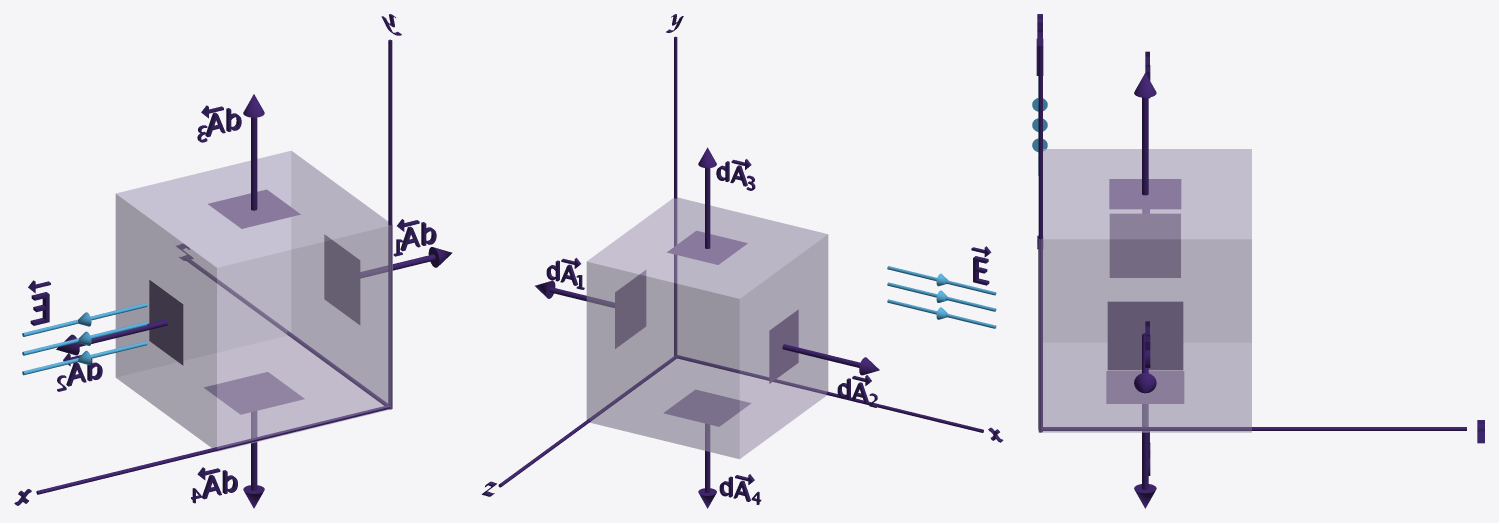
The model's file is fisica.glb.
3 views of the same model, side by side, from view 1: azimuth 30°, elevation 25°; view 2: azimuth 150°, elevation 25°; view 3: azimuth 270°, elevation 25° (orthographic). The views are drawn at different scales.
Visible parts, largest first — view 1: pCube1, pCylinder8, pCylinder2, pCylinder3, pCylinder4, pCone3, pCone5, pCone2, pCone4, typeMesh2, typeMesh4, typeMesh5; view 2: pCube1, pCylinder8, pCylinder2, pCylinder3, pCylinder4, pCone4, pCone3, pCone2, pCone5; view 3: pCube1, pCylinder2, pCylinder4, pCone3, pCone5, pCone2.
Part boxes in pixels (x1=…): pCube1: x1=115, y1=151, x2=392, y2=451; pCylinder8: x1=22, y1=303, x2=147, y2=375; pCylinder2: x1=388, y1=39, x2=392, y2=409; pCylinder3: x1=36, y1=405, x2=390, y2=494; pCylinder4: x1=185, y1=257, x2=388, y2=405; pCone3: x1=243, y1=94, x2=264, y2=210; pCone5: x1=243, y1=411, x2=264, y2=508; pCone2: x1=360, y1=247, x2=452, y2=277; pCone4: x1=56, y1=319, x2=167, y2=355; typeMesh2: x1=205, y1=108, x2=241, y2=137; typeMesh4: x1=400, y1=222, x2=436, y2=251; typeMesh5: x1=202, y1=470, x2=237, y2=499; pCube1: x1=586, y1=197, x2=828, y2=458; pCylinder8: x1=887, y1=266, x2=996, y2=328; pCylinder2: x1=674, y1=36, x2=677, y2=355; pCylinder3: x1=677, y1=355, x2=983, y2=432; pCylinder4: x1=498, y1=355, x2=677, y2=487; pCone4: x1=782, y1=344, x2=879, y2=375; pCone3: x1=698, y1=147, x2=716, y2=248; pCone2: x1=535, y1=280, x2=614, y2=307; pCone5: x1=698, y1=424, x2=716, y2=508; pCube1: x1=1039, y1=149, x2=1251, y2=432; pCylinder2: x1=1038, y1=45, x2=1042, y2=432; pCylinder4: x1=1042, y1=427, x2=1466, y2=430; pCone3: x1=1134, y1=73, x2=1156, y2=195; pCone5: x1=1134, y1=404, x2=1156, y2=508; pCone2: x1=1134, y1=333, x2=1156, y2=393.
Size of the model in its own units: 0.0277 by 0.0277 by 0.0212.
